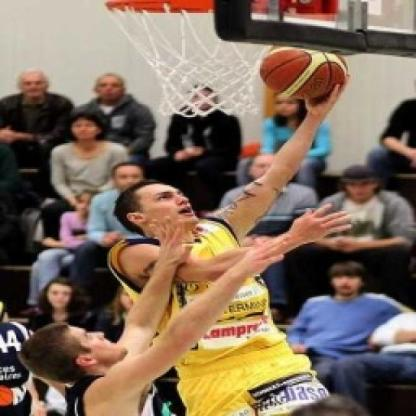basketball: (258, 39, 348, 106)
